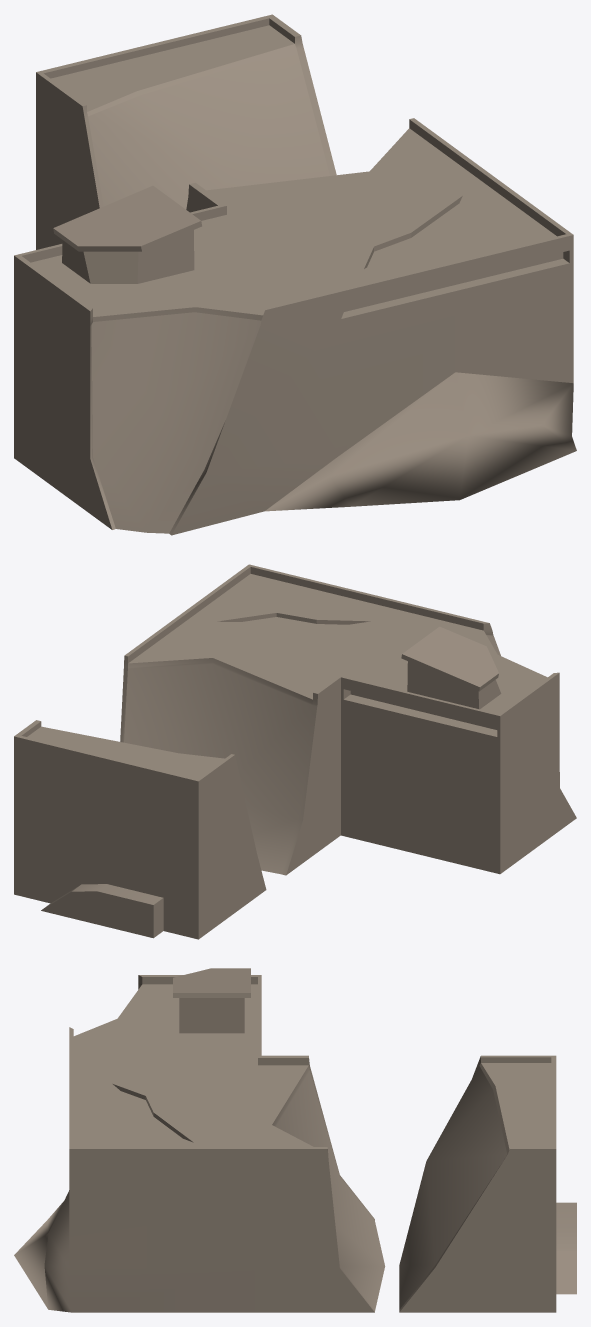
The model's file is building6.fbx.
The picture shows the model from 3 angles, top to bottom: view 1: azimuth 30°, elevation 25°; view 2: azimuth 150°, elevation 25°; view 3: azimuth 270°, elevation 25°; orthographic projection. The views are drawn at different scales.
Visible parts, largest first — view 1: building5; view 2: building5; view 3: building5.
Part boxes in pixels (bbox=[...]): building5: bbox=[14, 14, 576, 535]; building5: bbox=[14, 564, 576, 939]; building5: bbox=[14, 968, 576, 1312].
Size of the model in its own units: 4991 by 2666 by 6830.
